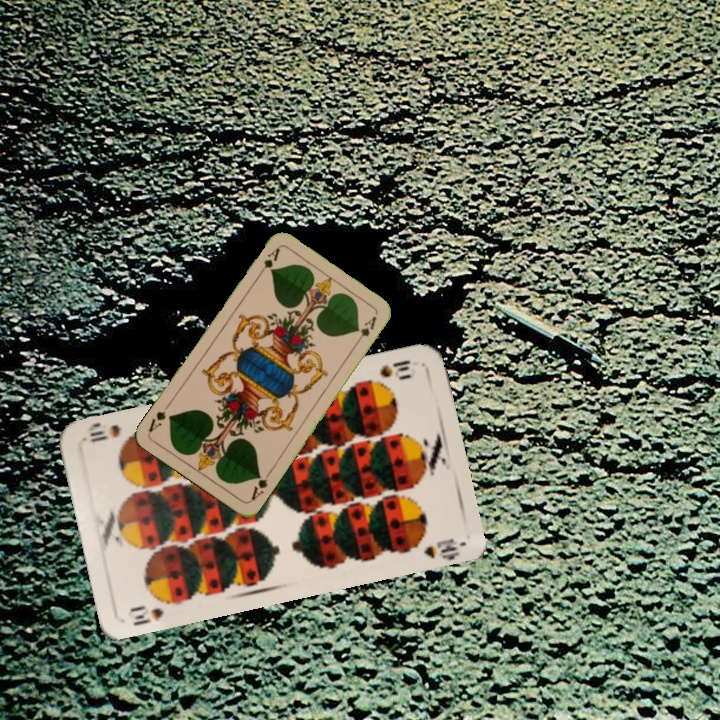GA: (254, 244, 283, 280), (247, 467, 273, 503)
S10: (126, 594, 178, 629), (376, 356, 418, 380)
